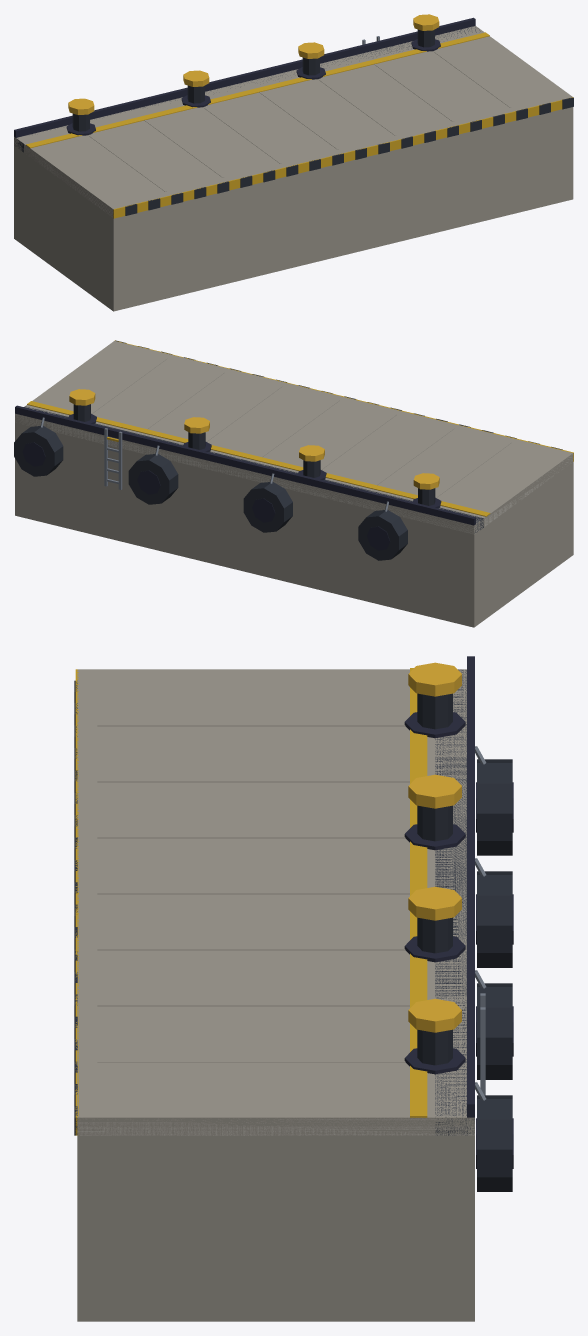
File: quay_small.glb
The picture shows the model from 3 angles, top to bottom: view 1: azimuth 30°, elevation 25°; view 2: azimuth 150°, elevation 25°; view 3: azimuth 270°, elevation 25°; orthographic projection. The views are drawn at different scales.
Visible parts, largest first — view 1: quay_small; view 2: quay_small; view 3: quay_small.
Boxes of the visible parts, x1,y1,x2,y2 form: quay_small: (14,14,573,311); quay_small: (14,340,573,627); quay_small: (74,656,513,1321).
Bounding box in the file's own units: 16 × 4.26 × 6.63.
